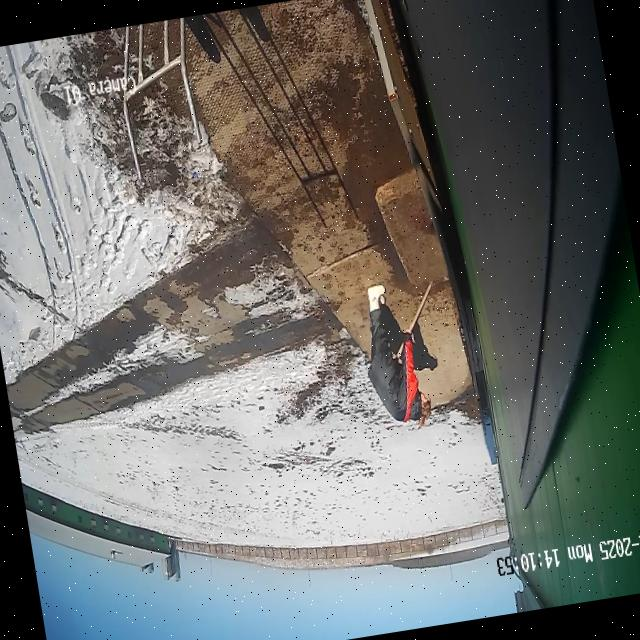Red uniform: (353, 276, 438, 435)
